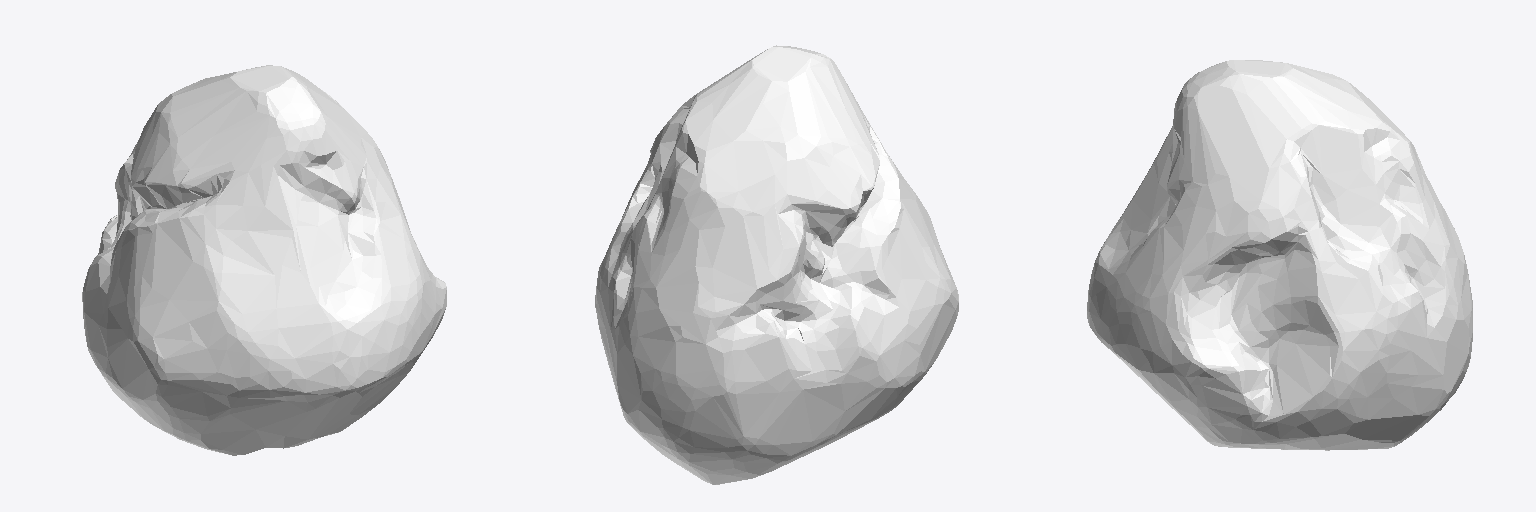
The model's file is rock_by_dommk.obj.
3 renders of one model, left to right at view 1: azimuth 30°, elevation 25°; view 2: azimuth 150°, elevation 25°; view 3: azimuth 270°, elevation 25°, orthographic.
Parts seen in each view (by area): view 1: rock; view 2: rock; view 3: rock.
Boxes of the visible parts, x1=… form: rock: x1=82, y1=65, x2=446, y2=455; rock: x1=595, y1=45, x2=958, y2=484; rock: x1=1087, y1=60, x2=1472, y2=450.
Bounding box in the file's own units: 6.04 × 7.23 × 6.66.